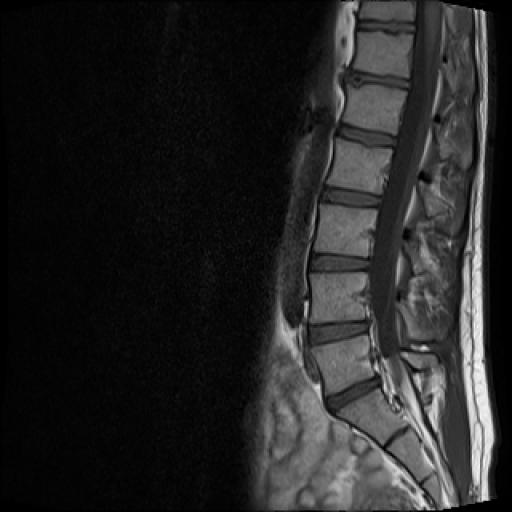L1: (344, 85, 406, 134)
L2: (327, 138, 393, 194)
L3: (314, 204, 377, 256)
L4: (310, 273, 366, 322)
L5: (312, 335, 374, 394)
S1: (336, 388, 408, 446)
